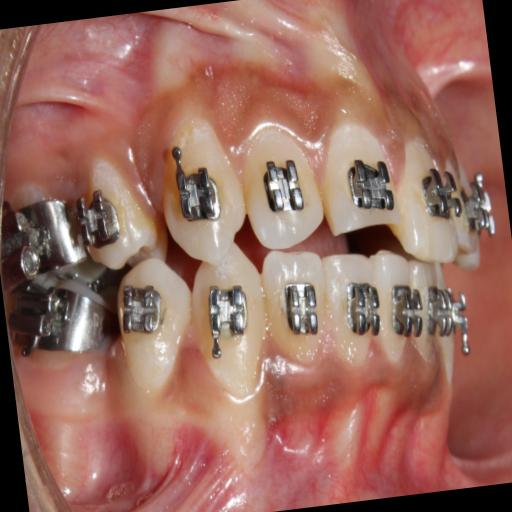correct_brace: (108, 256, 202, 398), (71, 150, 172, 274), (200, 274, 256, 358), (170, 144, 222, 226), (253, 152, 309, 222), (343, 153, 397, 222), (116, 278, 166, 342), (278, 274, 322, 342)
incorrect_brace: (235, 121, 327, 255), (262, 248, 334, 366), (75, 186, 131, 258)
